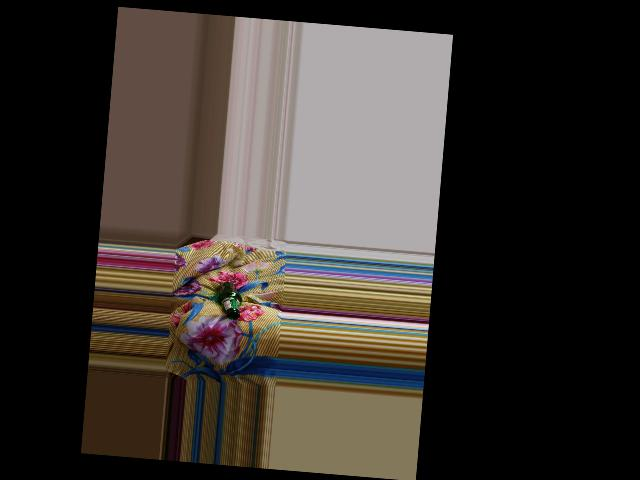beer: (216, 281, 243, 320)
